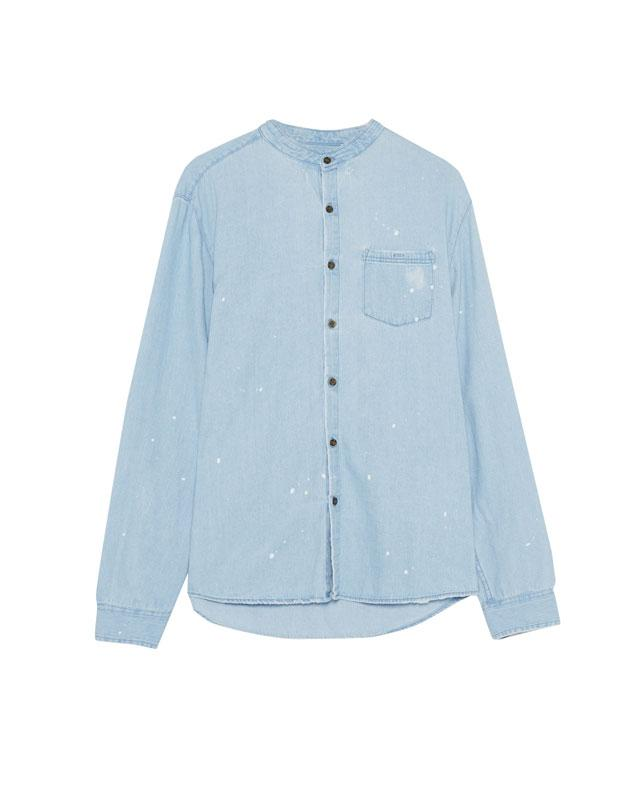teeshirt: (64, 112, 596, 675)
